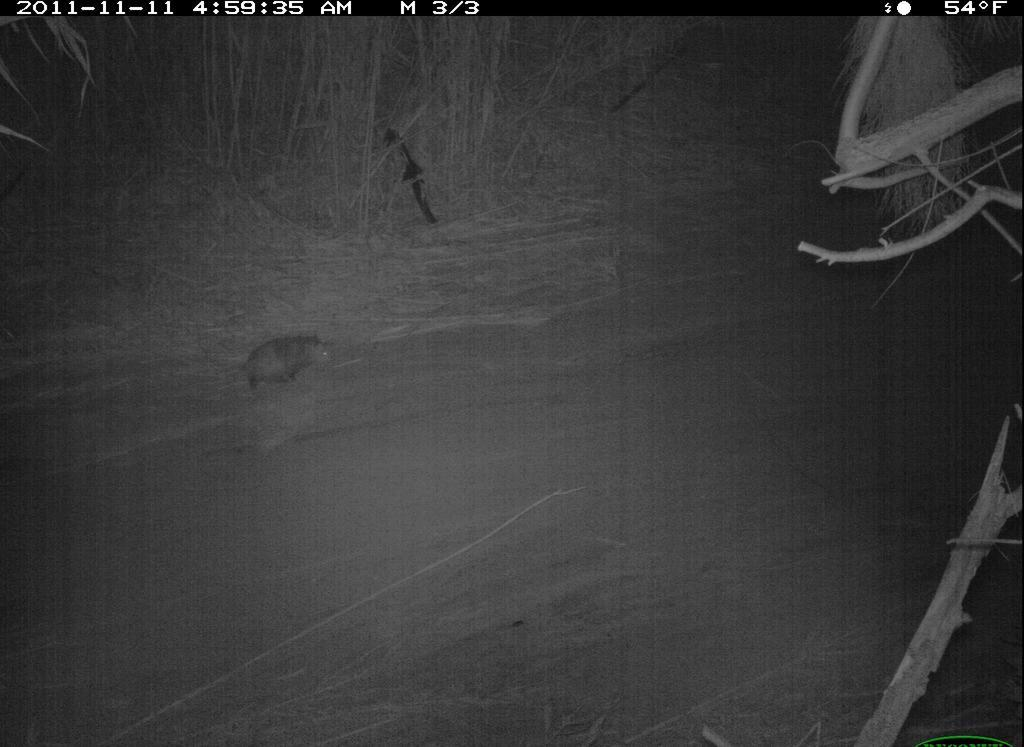opossum: (219, 327, 344, 397)
